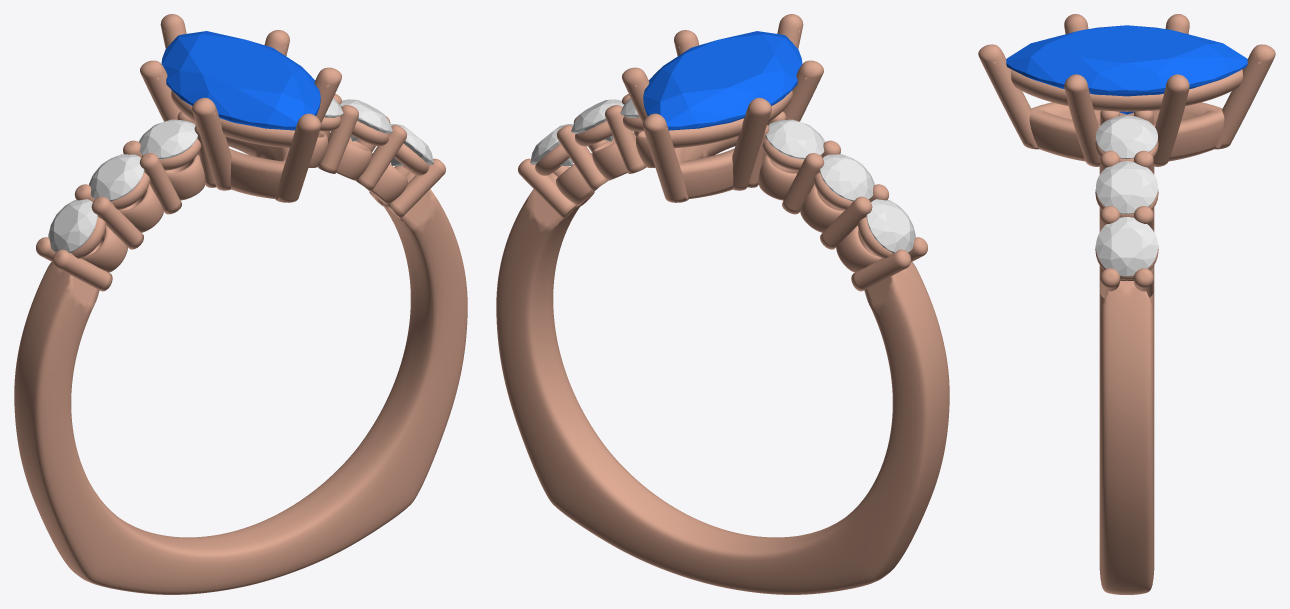
Rendered from bluesapphire-marquise-rosegold-6prong-europeanshank-7stone.glb.
3 renders of one model, left to right at view 1: azimuth 30°, elevation 25°; view 2: azimuth 150°, elevation 25°; view 3: azimuth 270°, elevation 25°, orthographic.
Parts seen in each view (by area): view 1: metal.001, stone.001, side.001, side.008, side.009, side.011, side.010; view 2: metal.001, stone.001, side.001, side.008, side.009, side.011, side.010; view 3: metal.001, stone.001, side.010, side.011, side.012.
Boxes of the visible parts, x1,y1,x2,y2 form: metal.001: (14, 14, 467, 594); stone.001: (161, 31, 320, 130); side.001: (48, 199, 97, 252); side.008: (89, 154, 144, 201); side.009: (138, 119, 197, 159); side.011: (340, 99, 392, 141); side.010: (390, 124, 433, 165); metal.001: (496, 14, 949, 594); stone.001: (643, 31, 802, 130); side.001: (866, 199, 915, 252); side.008: (819, 154, 874, 201); side.009: (766, 119, 825, 159); side.011: (571, 99, 623, 141); side.010: (530, 124, 573, 165); metal.001: (978, 14, 1275, 594); stone.001: (1006, 25, 1247, 114); side.010: (1096, 217, 1157, 276); side.011: (1096, 161, 1157, 214); side.012: (1096, 115, 1157, 158).
Bounding box in the file's own units: 20.1 × 22.73 × 11.96.
